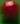brown: (0, 0, 20, 24)
